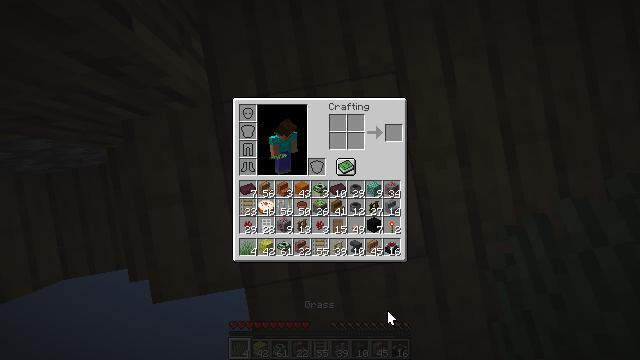cursor: (387, 310, 397, 326)
